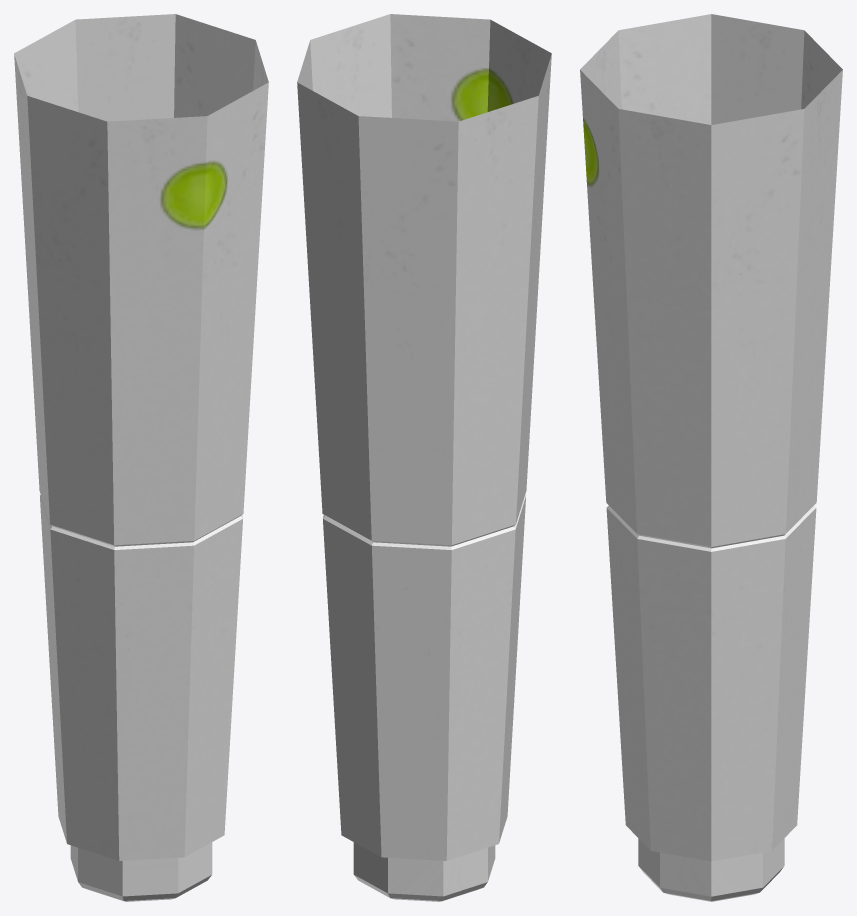
The picture shows the model from 3 angles, left to right: view 1: azimuth 30°, elevation 25°; view 2: azimuth 150°, elevation 25°; view 3: azimuth 270°, elevation 25°; orthographic projection.
Bounding box in the file's own units: 0.106 × 0.3587 × 0.106.
Materials: 1 (1 with a texture image).
